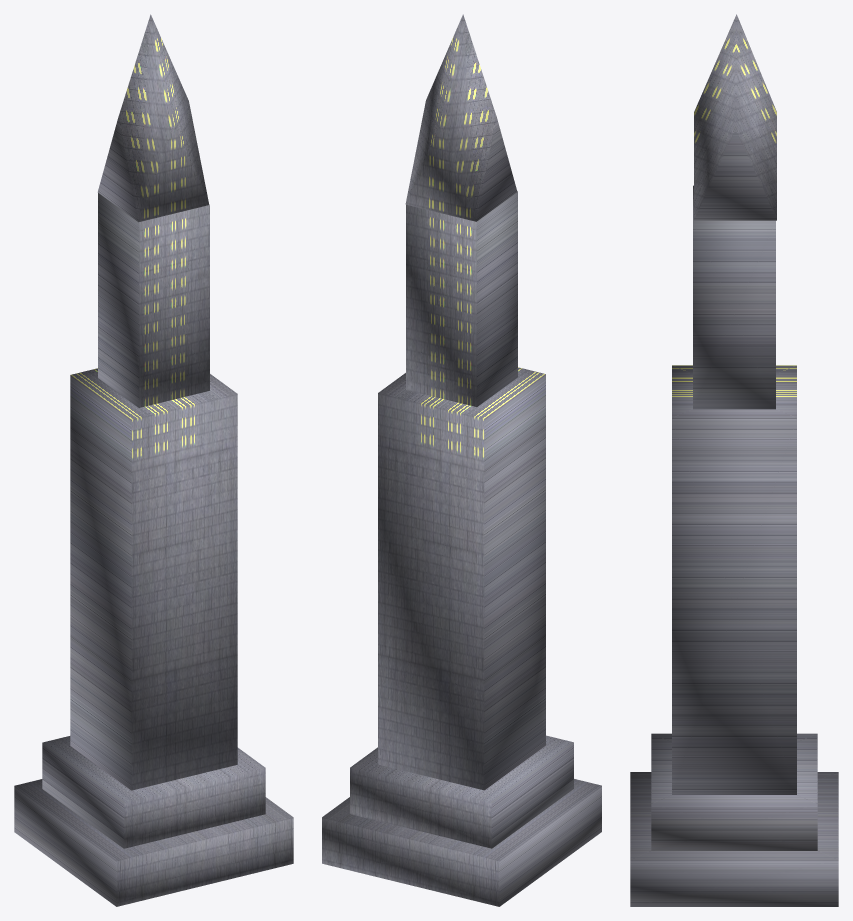
Rendered from Building1.obj.
3 renders of one model, left to right at view 1: azimuth 30°, elevation 25°; view 2: azimuth 150°, elevation 25°; view 3: azimuth 270°, elevation 25°, orthographic.
Visible parts, largest first — view 1: Building1; view 2: Building1; view 3: Building1.
Part boxes in pixels (x1,y1,x2,y2): Building1: (14, 14, 293, 906); Building1: (322, 14, 601, 906); Building1: (630, 14, 838, 906).
Bounding box in the file's own units: 2 × 8.99 × 2.
